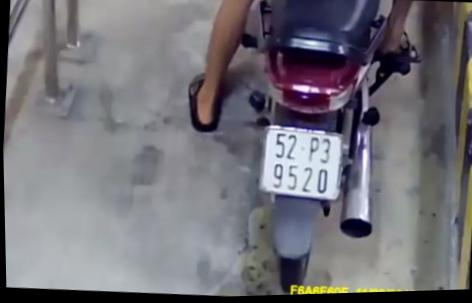LP: (254, 121, 346, 208)
